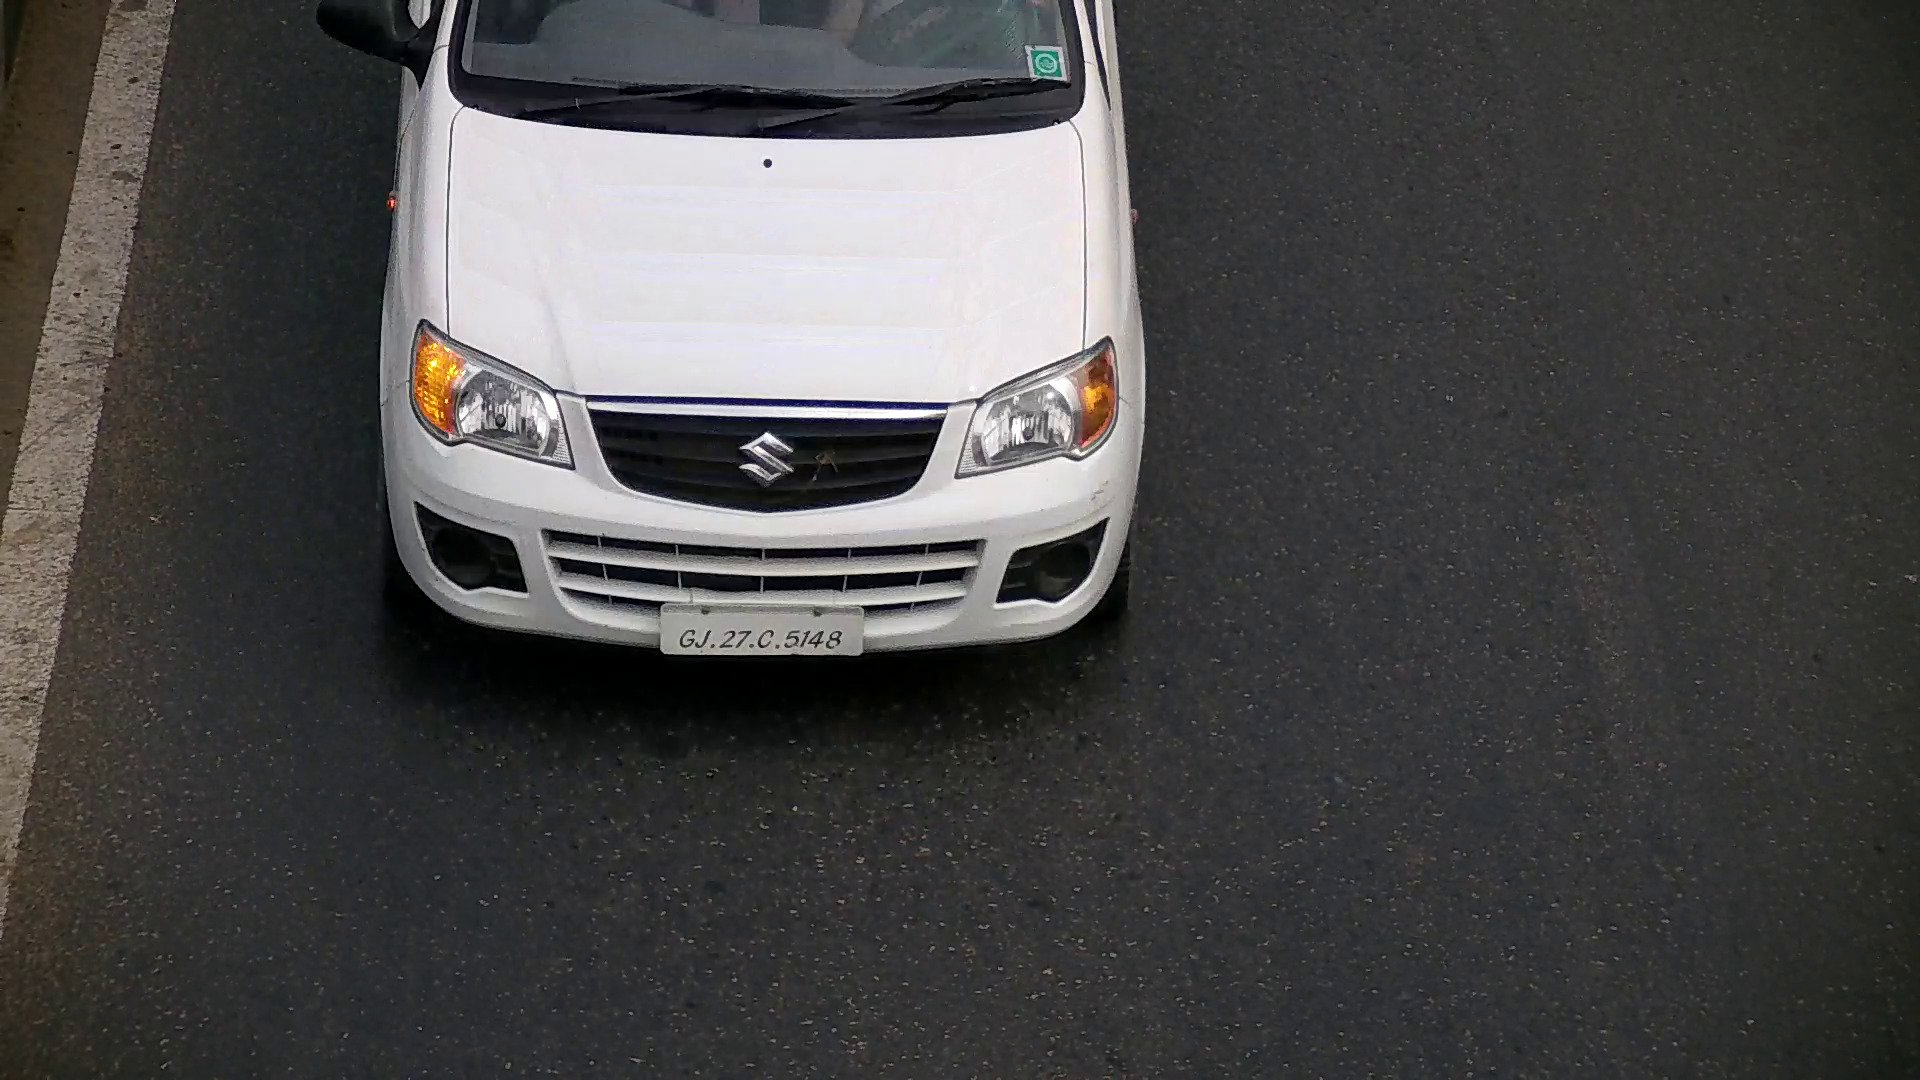numberplate: (660, 602, 865, 667)
